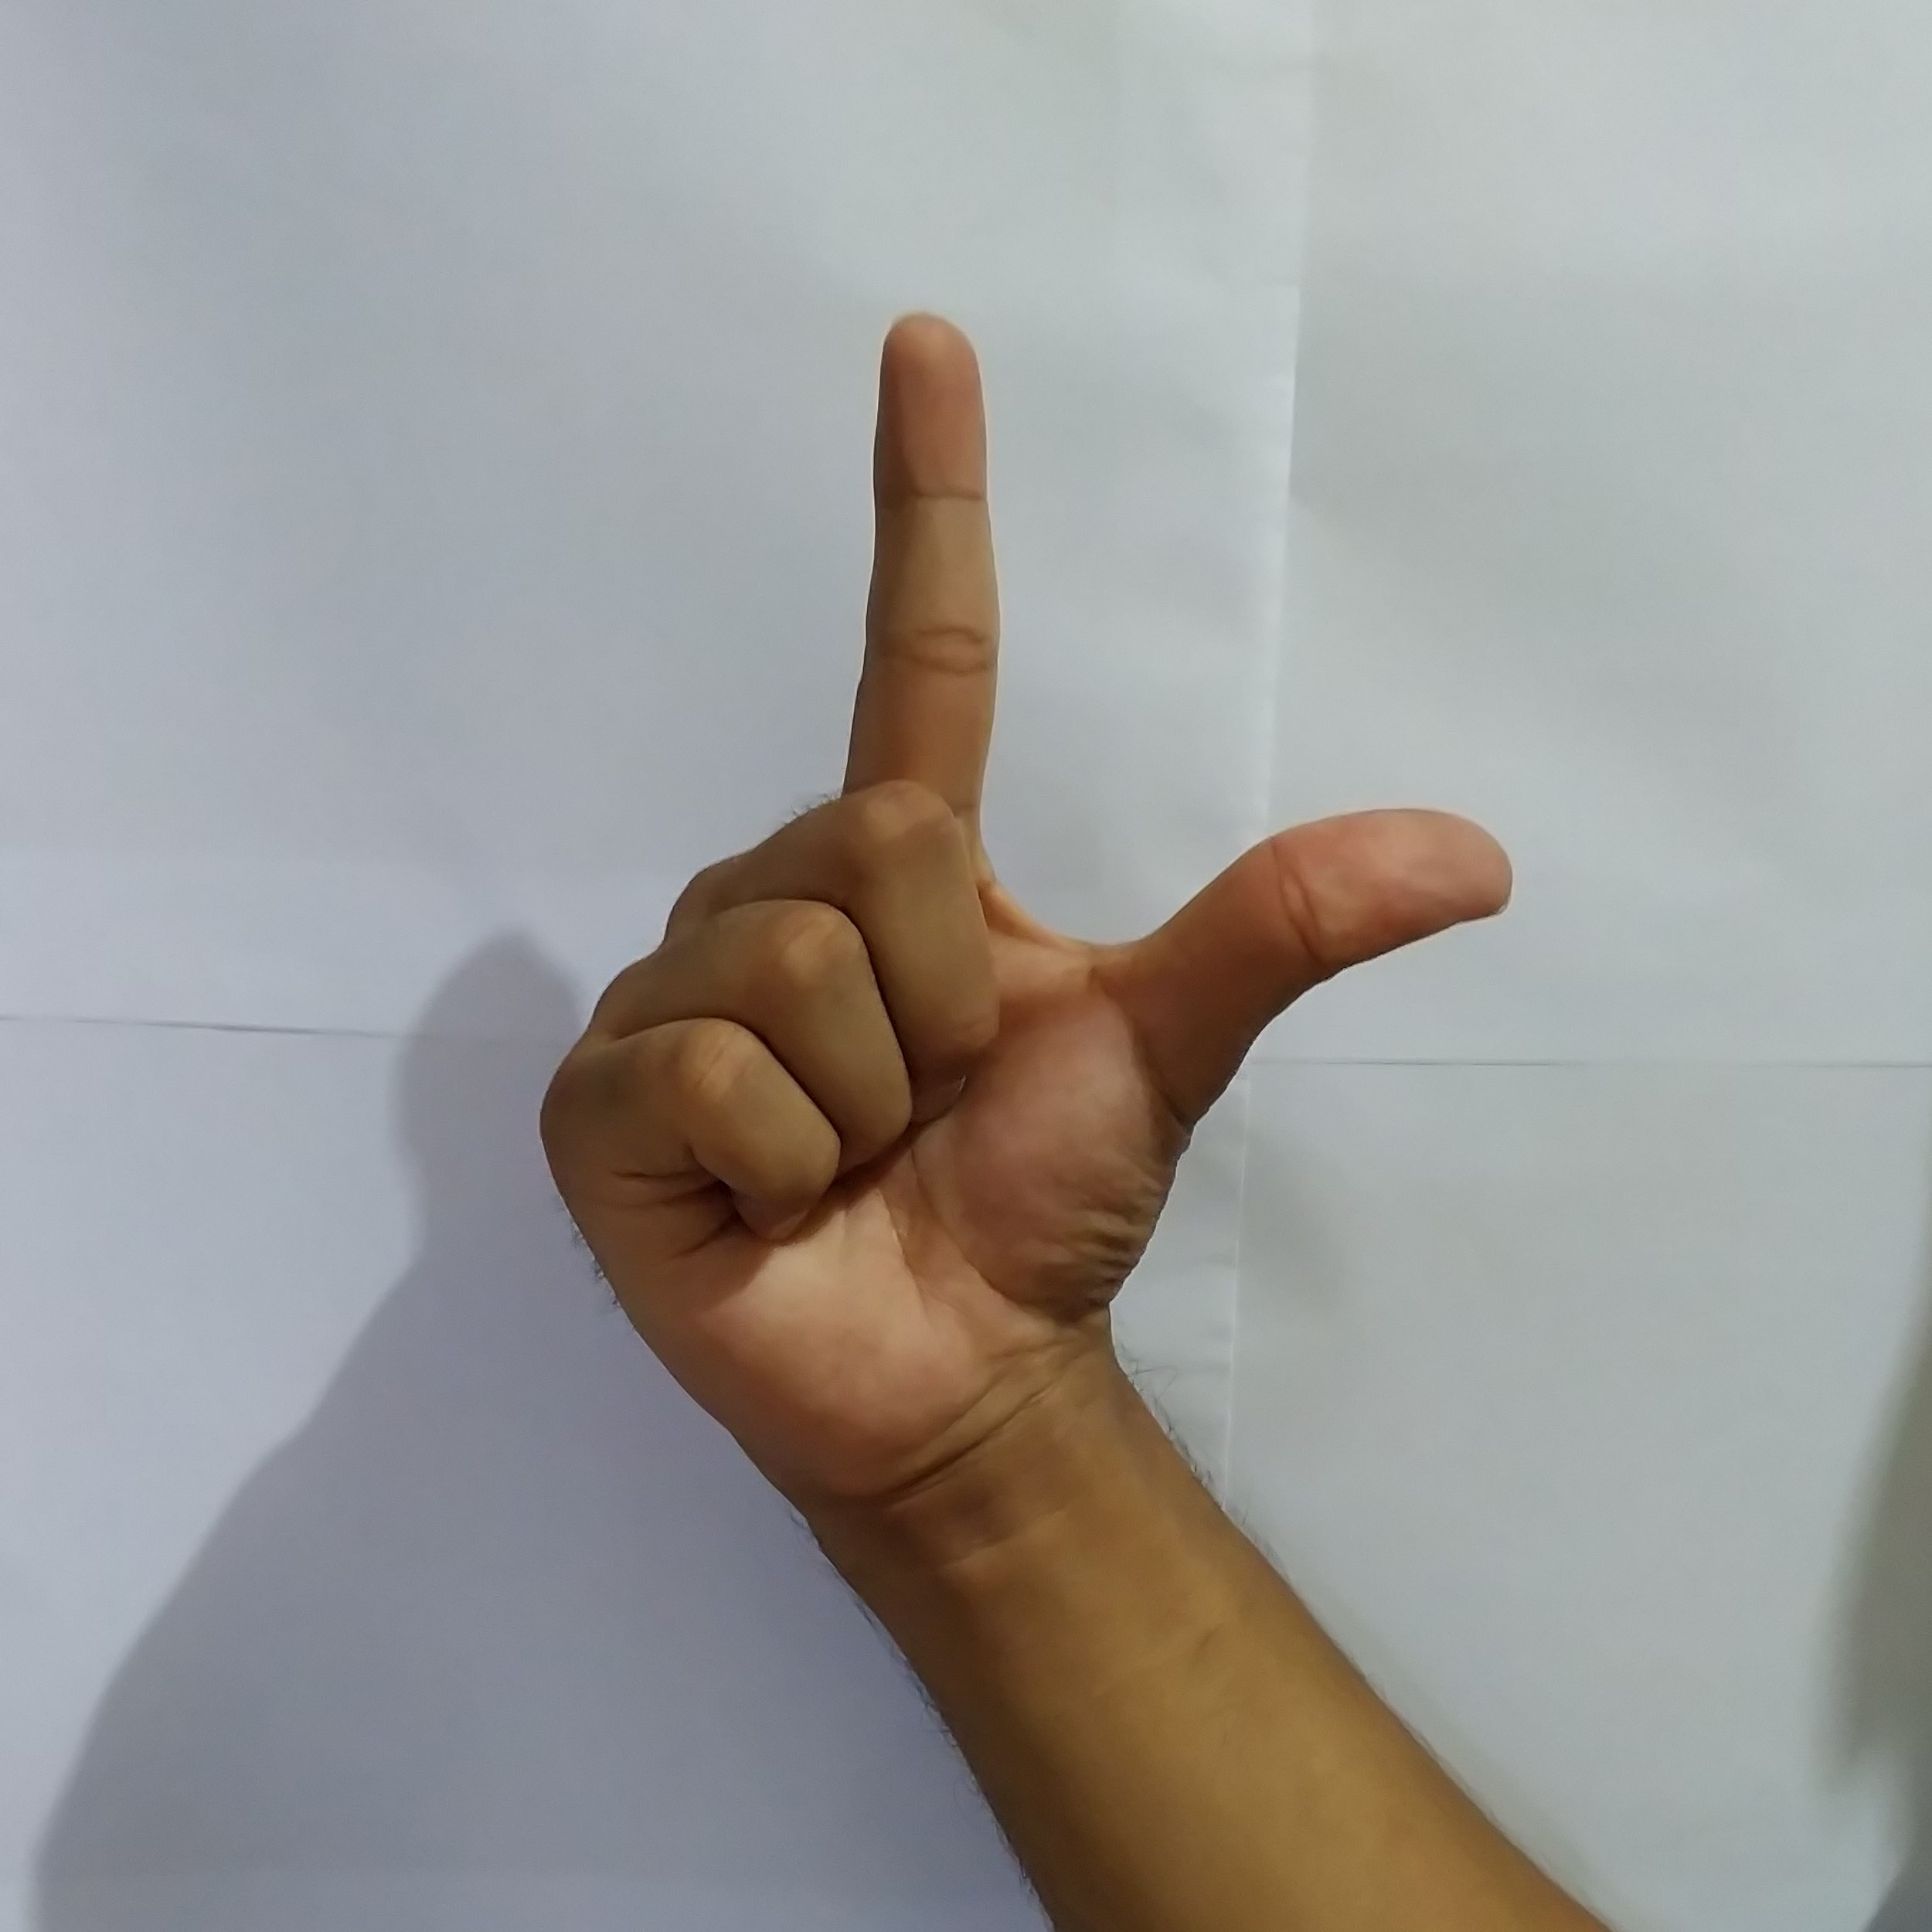L: (518, 285, 1536, 1433)
